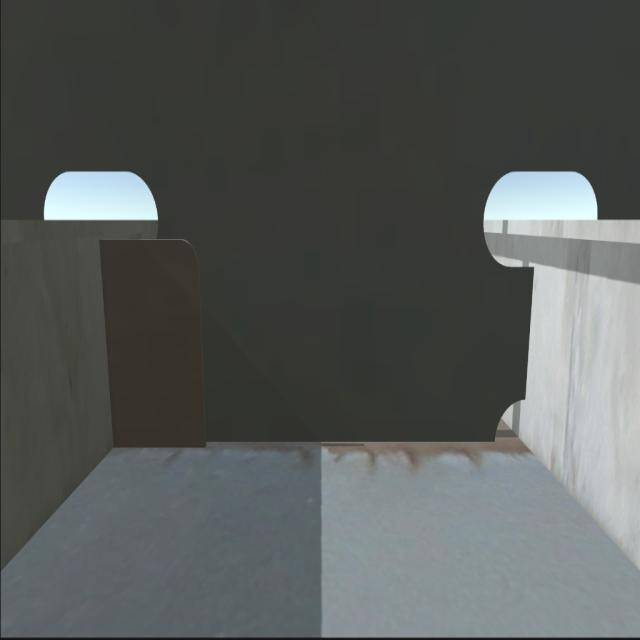fillet_hole: (488, 391, 530, 449)
fillet_yong_jeop_jang: (113, 439, 494, 454)
longi_yong_jeop_jang: (91, 241, 134, 450), (521, 266, 549, 406)
plate_CP05: (101, 237, 211, 443), (306, 532, 306, 533)
